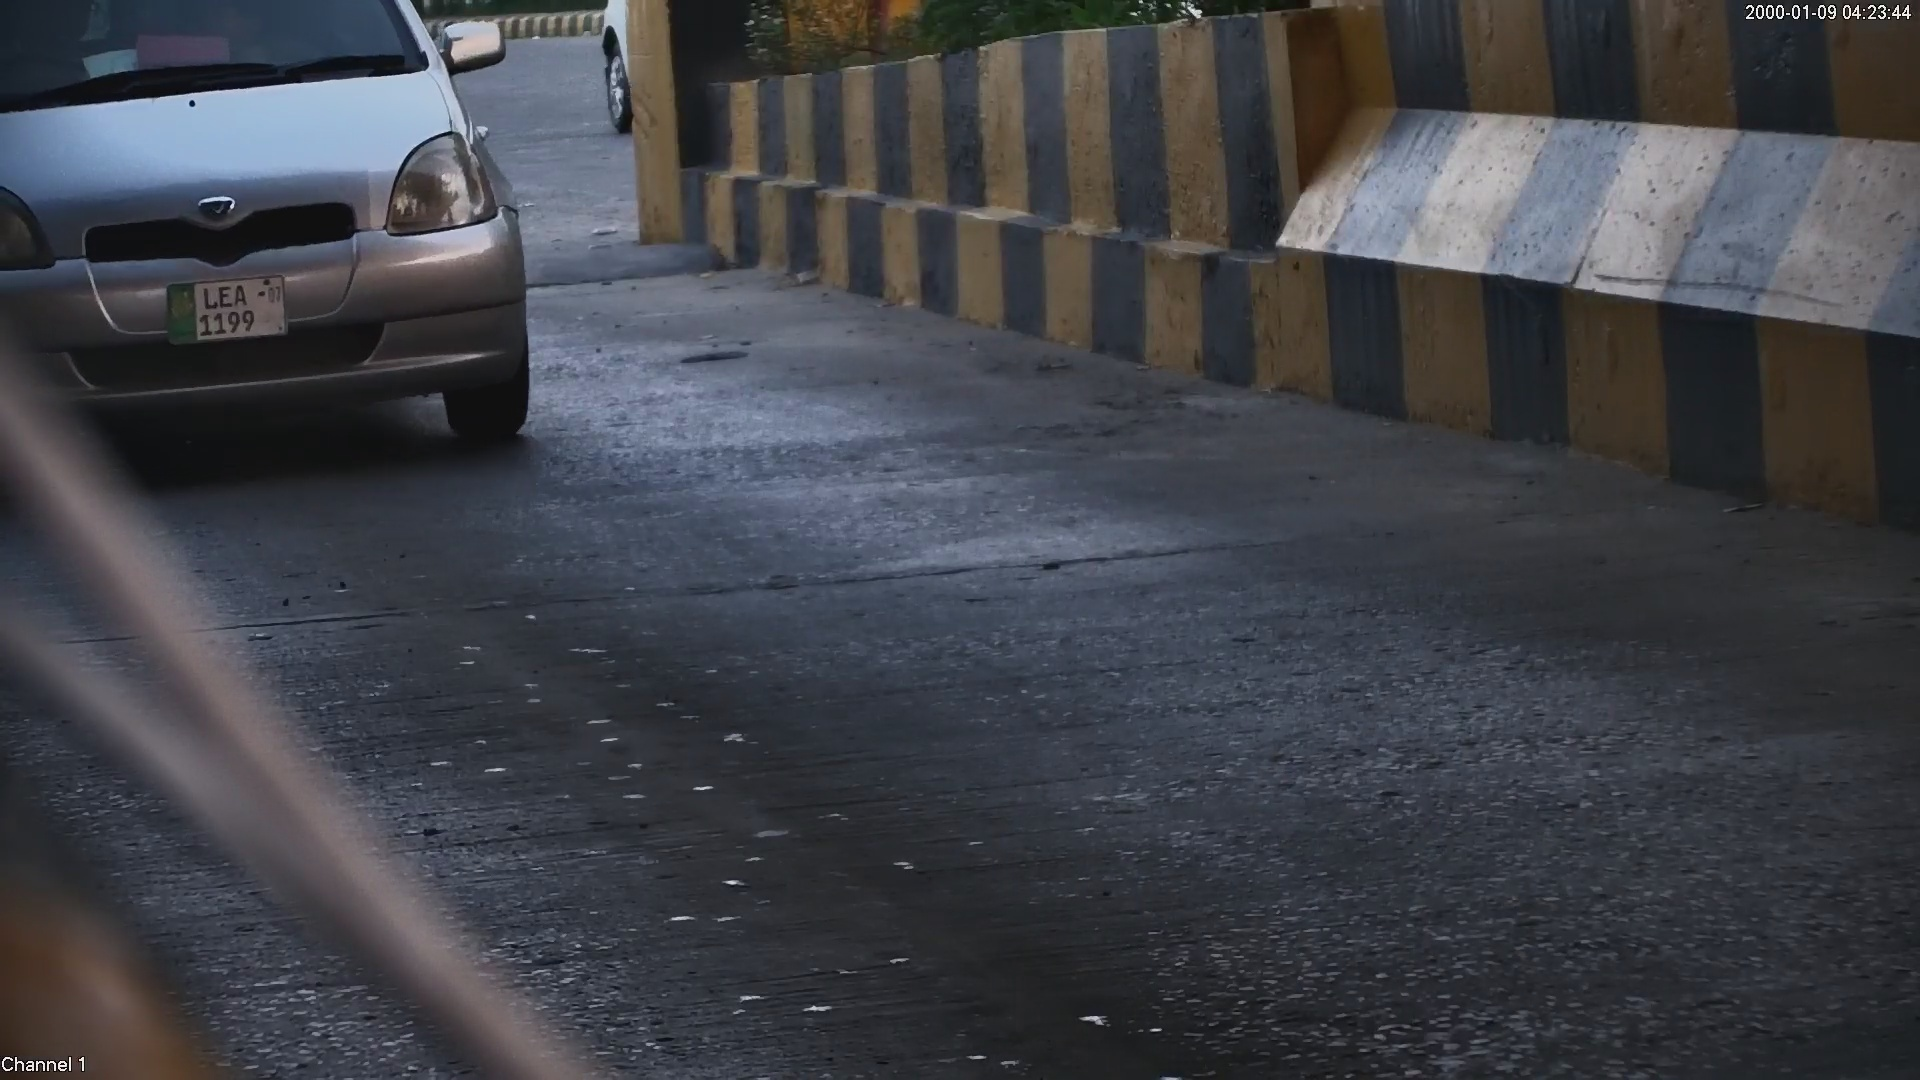Number_Plate: (156, 266, 295, 349)
